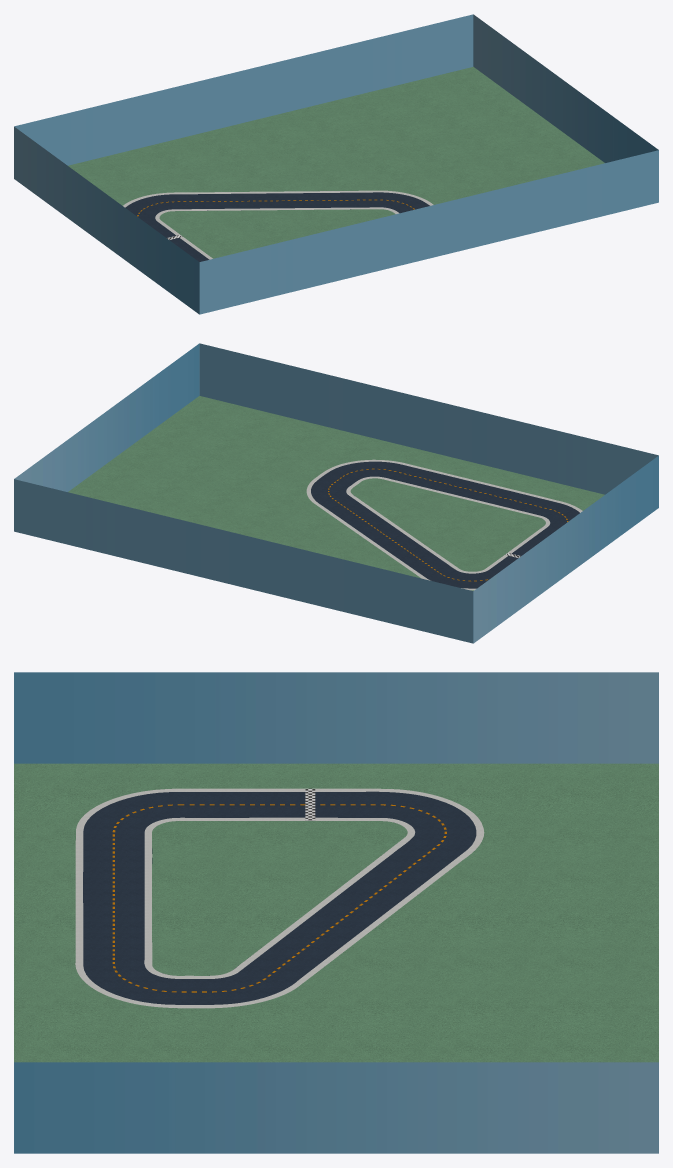
Rendered from Trapezoid_scale.dae.
The picture shows the model from 3 angles, top to bottom: view 1: azimuth 30°, elevation 25°; view 2: azimuth 150°, elevation 25°; view 3: azimuth 270°, elevation 25°; orthographic projection. The views are drawn at different scales.
Parts seen in each view (by area): view 1: wall, field, road, il, ol; view 2: wall, field, road, il, ol; view 3: field, wall, road, ol, il, cl.
Boxes of the visible parts, x1,y1,x2,y2 form: wall: [14, 14, 658, 314]; field: [68, 67, 604, 258]; road: [125, 192, 429, 261]; il: [155, 207, 399, 259]; ol: [123, 190, 433, 207]; wall: [14, 343, 658, 643]; field: [68, 396, 604, 590]; road: [311, 461, 579, 588]; il: [346, 476, 550, 573]; ol: [306, 459, 582, 590]; field: [14, 763, 658, 1062]; wall: [14, 672, 658, 1153]; road: [83, 791, 476, 1004]; ol: [75, 788, 484, 1008]; il: [144, 817, 415, 978]; cl: [112, 804, 446, 992].
Bounding box in the file's own units: 64.14 × 44.86 × 7.
Materials: 7 (7 with a texture image).
